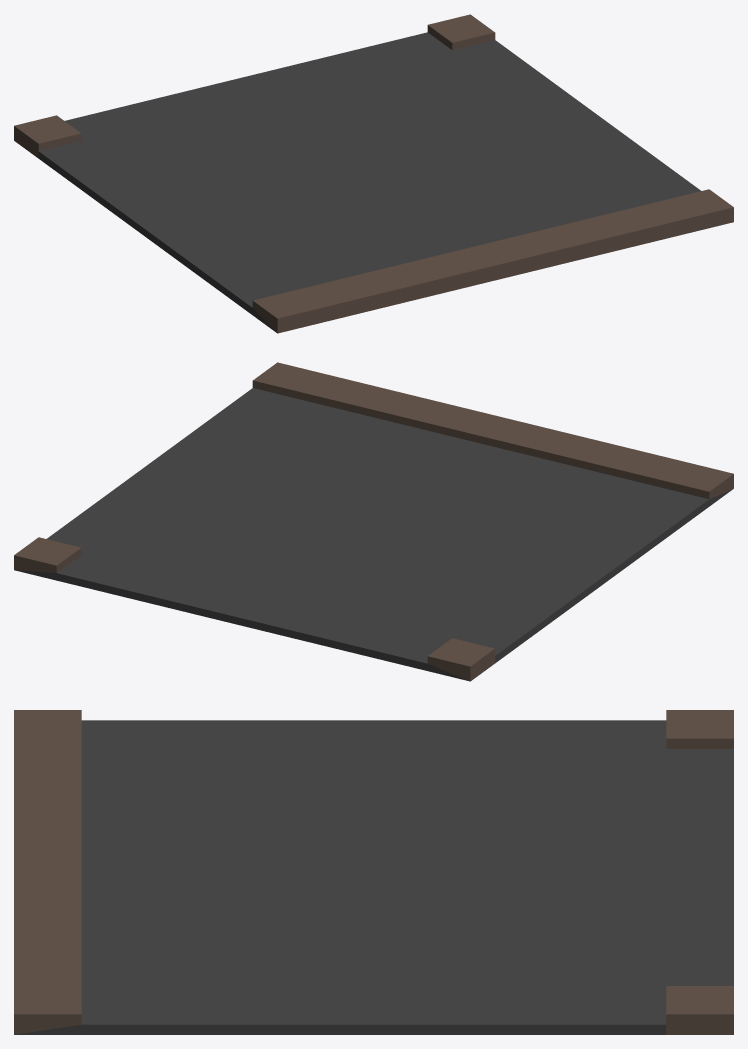
File: right_top_bottom.glb
3 views of the same model, one above another, from view 1: azimuth 30°, elevation 25°; view 2: azimuth 150°, elevation 25°; view 3: azimuth 270°, elevation 25° (orthographic). The views are drawn at different scales.
Visible parts, largest first — view 1: Maxis-3d1-mesh-70; view 2: Maxis-3d1-mesh-70; view 3: Maxis-3d1-mesh-70.
Part boxes in pixels (bbox=[...]): Maxis-3d1-mesh-70: bbox=[14, 14, 733, 333]; Maxis-3d1-mesh-70: bbox=[14, 362, 733, 681]; Maxis-3d1-mesh-70: bbox=[14, 710, 733, 1034].
Bounding box in the file's own units: 16 × 0.5 × 16.
